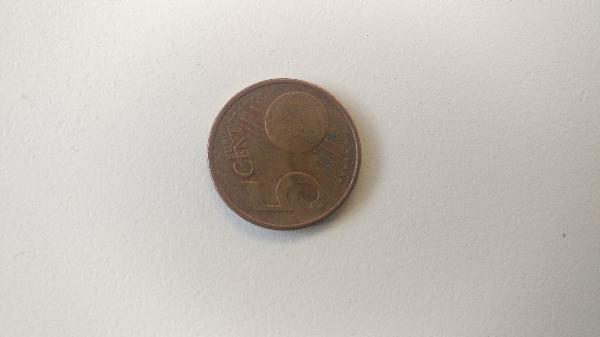Five Cent: (204, 75, 363, 235)
